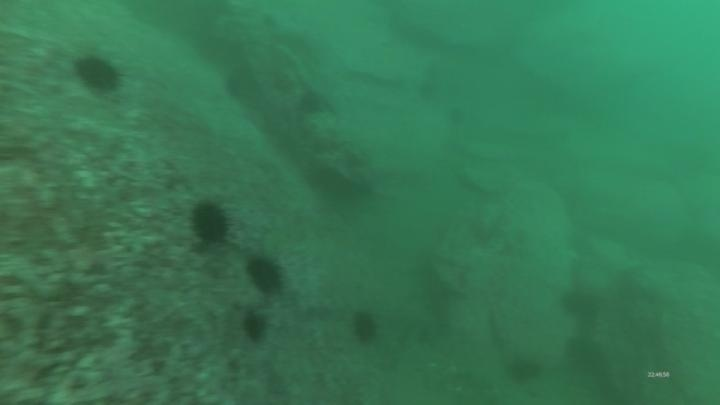echinus: (72, 52, 124, 95), (188, 198, 233, 247), (562, 333, 607, 376), (244, 253, 286, 297), (558, 285, 601, 322), (504, 353, 544, 386), (348, 308, 381, 346), (239, 309, 271, 346), (295, 87, 328, 118), (444, 103, 469, 129)
